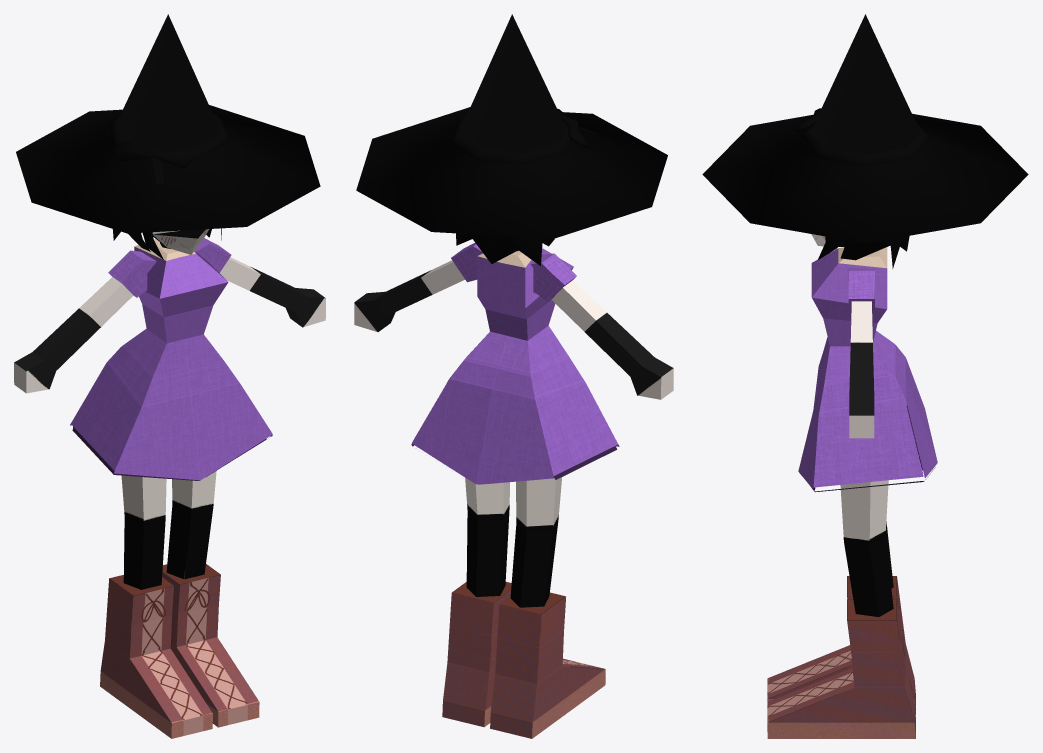
The model's file is mage model.fbx.
3 views of the same model, side by side, from view 1: azimuth 30°, elevation 25°; view 2: azimuth 150°, elevation 25°; view 3: azimuth 270°, elevation 25° (orthographic). The views are drawn at different scales.
Parts seen in each view (by area): view 1: Basic_Shoes; view 2: Basic_Shoes; view 3: Basic_Shoes.
Part boxes in pixels (left/top/right/bottom): Basic_Shoes: left=14, top=14, right=325, bottom=738; Basic_Shoes: left=354, top=14, right=673, bottom=738; Basic_Shoes: left=702, top=14, right=1028, bottom=738.
Size of the model in its own units: 118 by 255 by 108.
